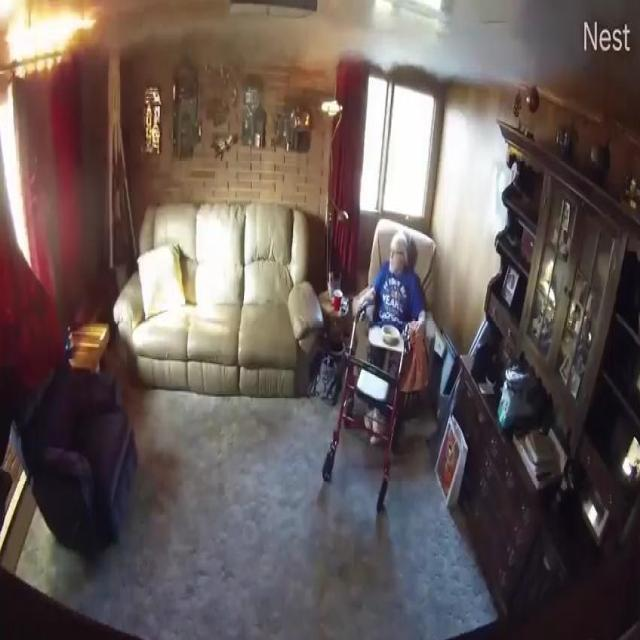fire: (303, 18, 576, 83)
smoke: (8, 13, 98, 78)
